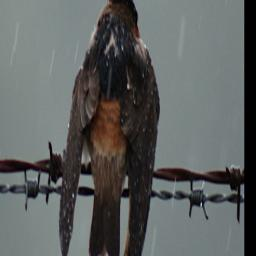Swallow: (57, 0, 160, 256)
